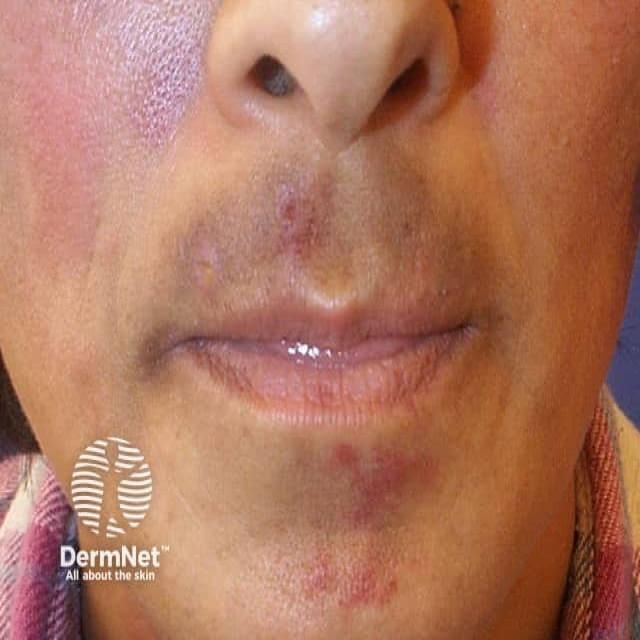Acne: (145, 196, 448, 300), (299, 440, 436, 627)
